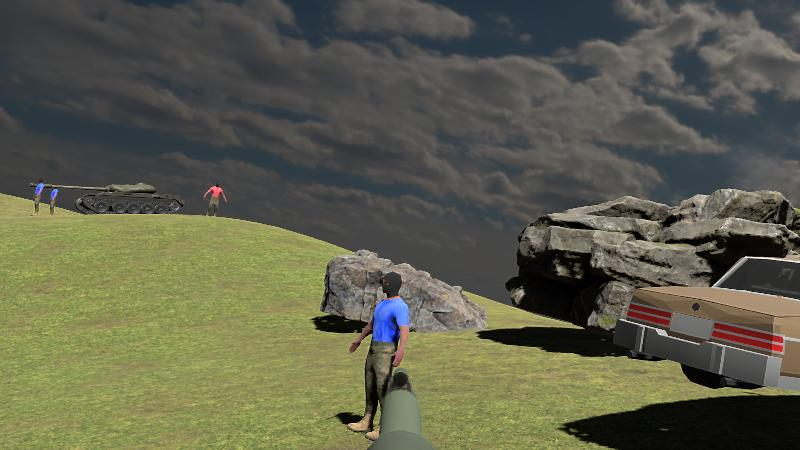Human: (348, 269, 410, 441), (203, 180, 226, 220)
Tank: (30, 180, 185, 215), (30, 181, 184, 215)
car: (600, 255, 800, 416)
